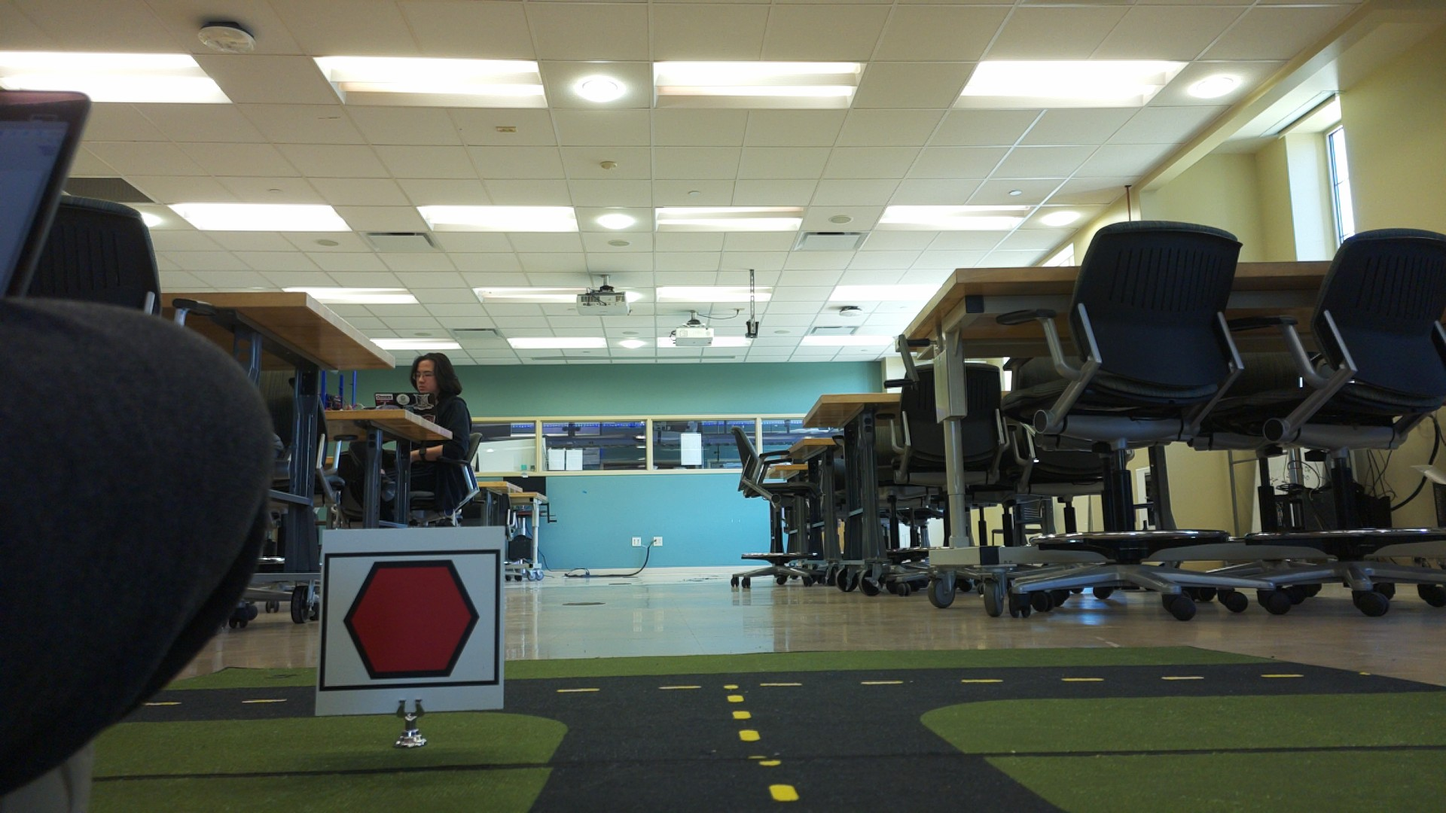stop: (331, 554, 492, 683)
yellowline: (727, 684, 798, 806)
